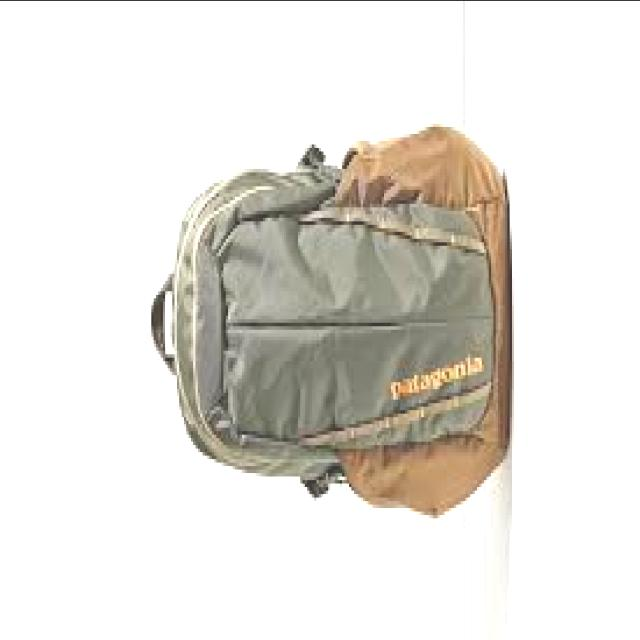backpack: (151, 127, 511, 522)
